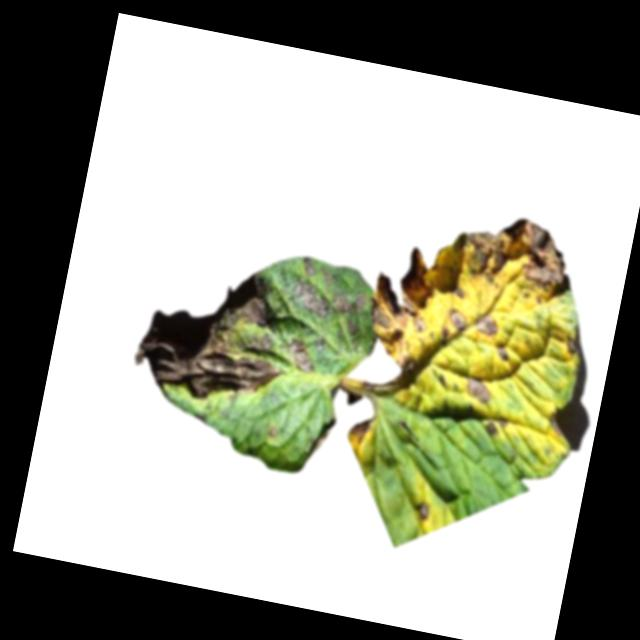Early_blight: (129, 254, 299, 414), (445, 206, 582, 303), (363, 239, 439, 358), (284, 255, 374, 338), (359, 346, 427, 408), (276, 333, 322, 376), (462, 375, 497, 407), (474, 312, 501, 341), (563, 334, 587, 360), (445, 309, 466, 338), (410, 499, 433, 521), (492, 343, 512, 365)
